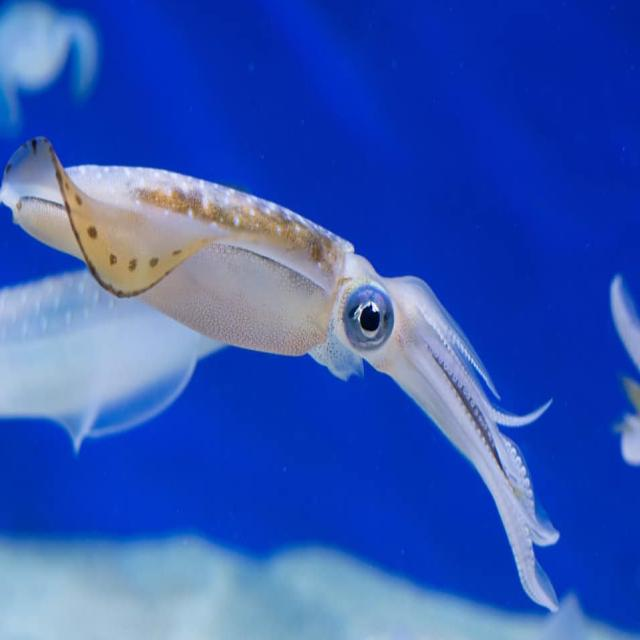SQUID: (0, 118, 577, 632)
